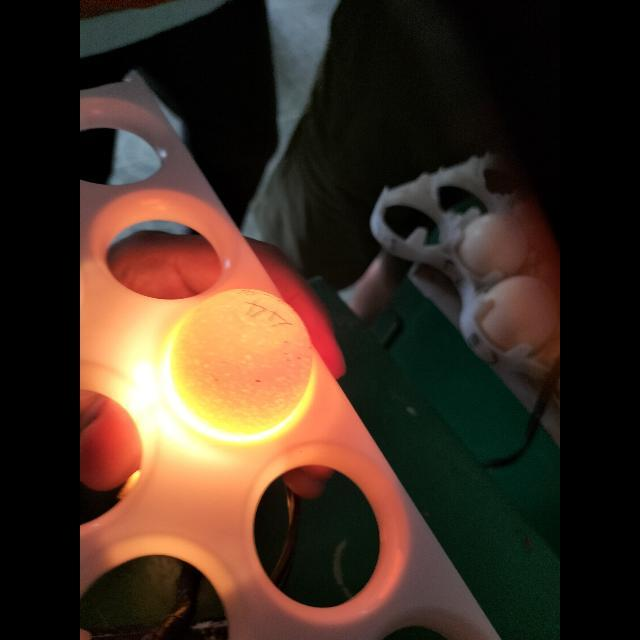Infertile: (183, 290, 314, 434)
